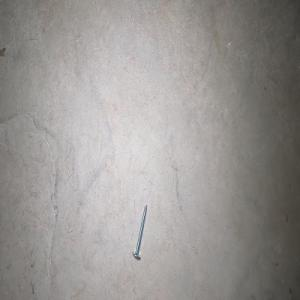Bolt: (132, 203, 147, 259)
